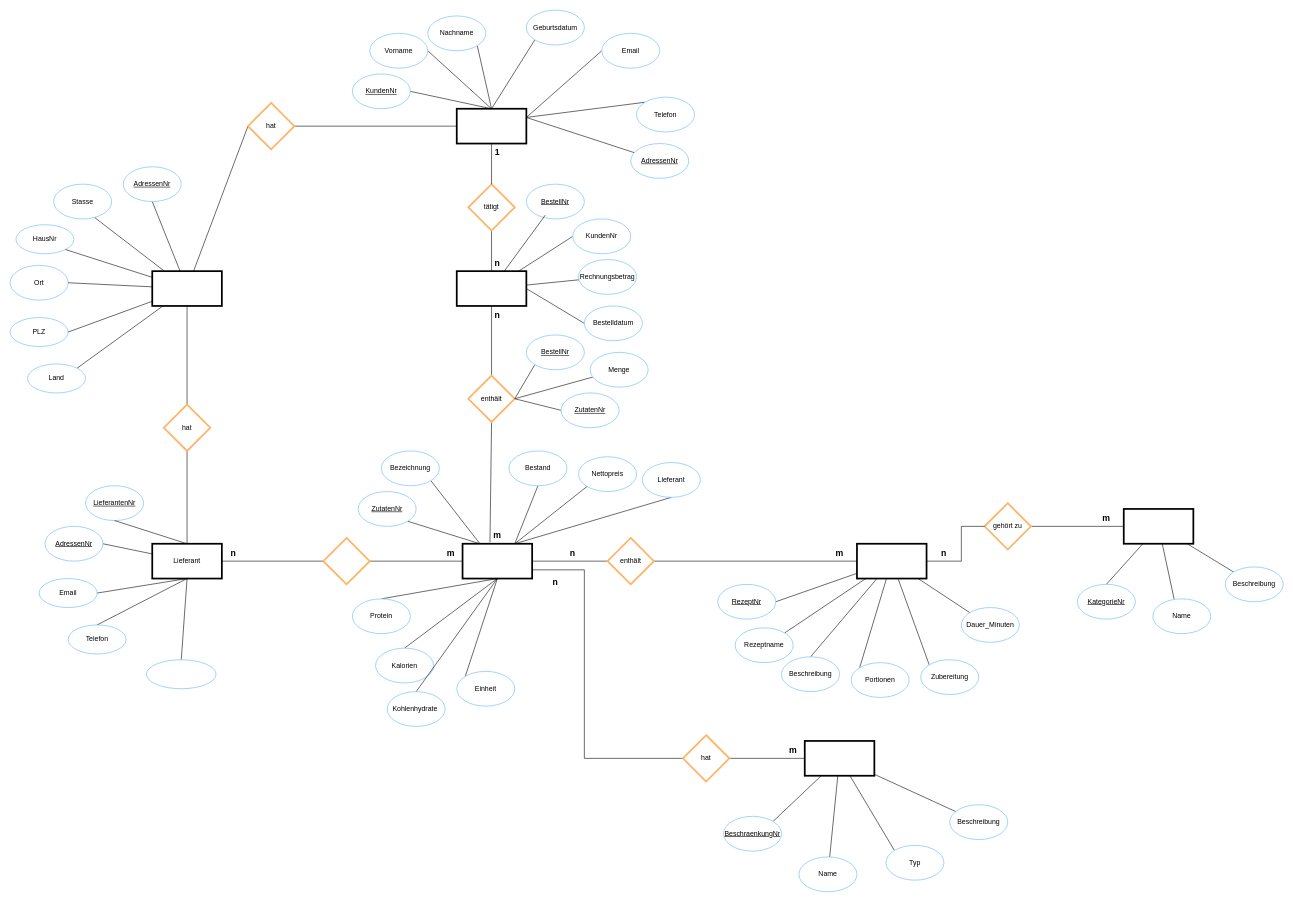
The diagram is 1293 pixels wide and 902 high, and some of its shapes have lost their labels. The shapes that lost their labels are listed below. From the top down, each one's centre as x and y in pixels, then its label:
the point at 491,126: Kunde
the point at 186,288: Adresse
the point at 491,288: Bestellung
the point at 1158,526: Ernährungskategorien
the point at 346,561: liefert
the point at 497,561: Zutat
the point at 891,561: Rezept
the point at 181,674: Lieferantenname
the point at 839,758: Beschränkungen
